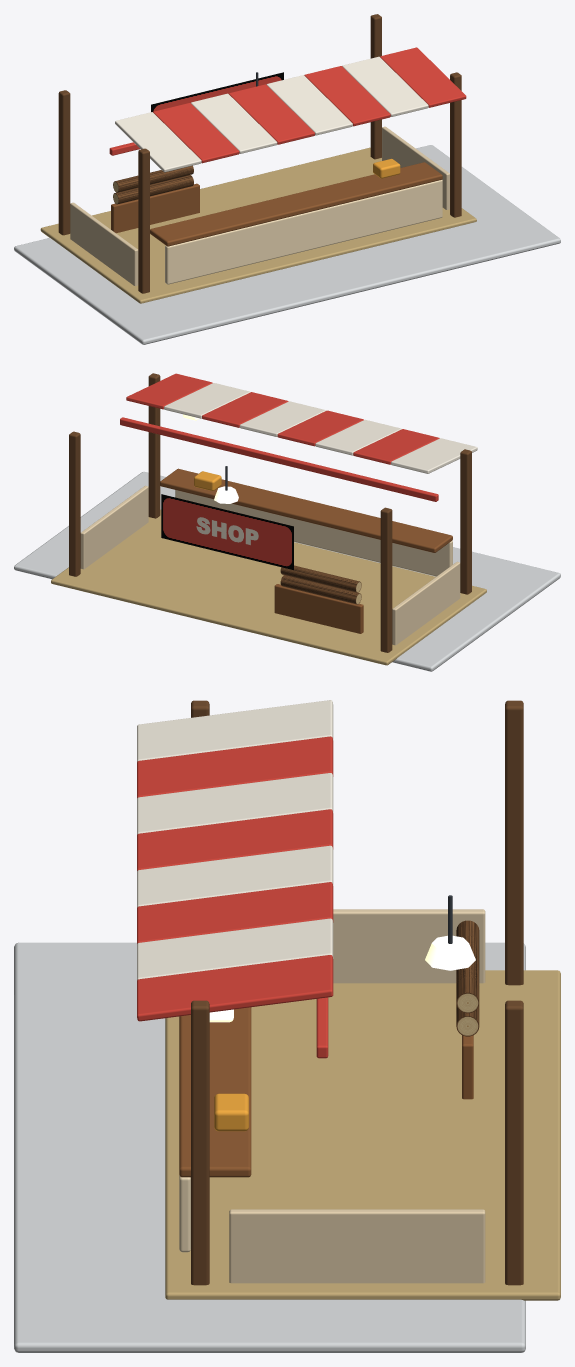
Rendered from shop.glb.
3 renders of one model, top to bottom at view 1: azimuth 30°, elevation 25°; view 2: azimuth 150°, elevation 25°; view 3: azimuth 270°, elevation 25°, orthographic. The views are drawn at different scales.
Size of the model in its own units: 8.2 by 2.87 by 4.7.
16 materials, 4 textured.
